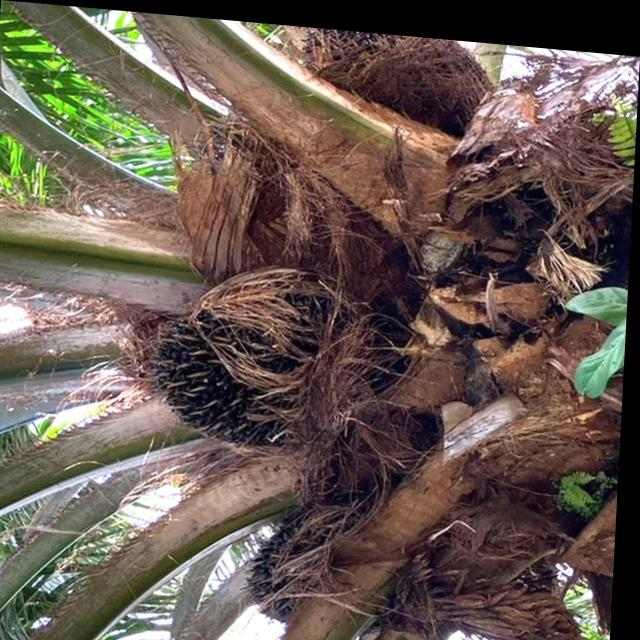unripe: (142, 296, 324, 457)
